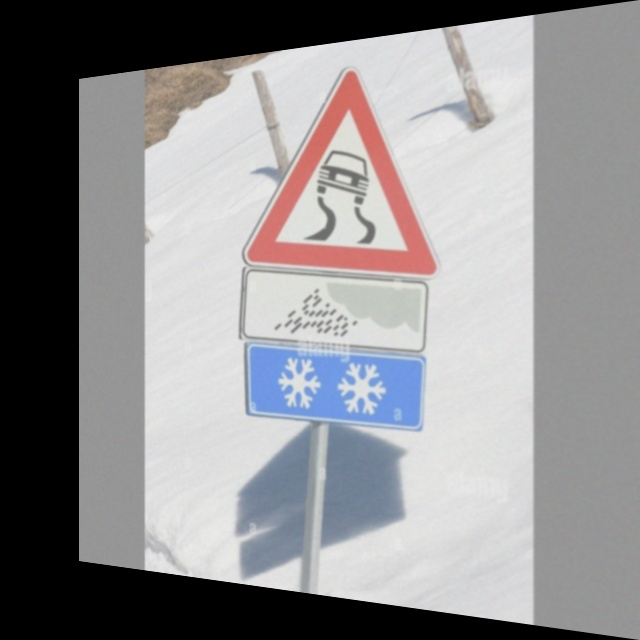Slippery_Road: (248, 57, 440, 276)
